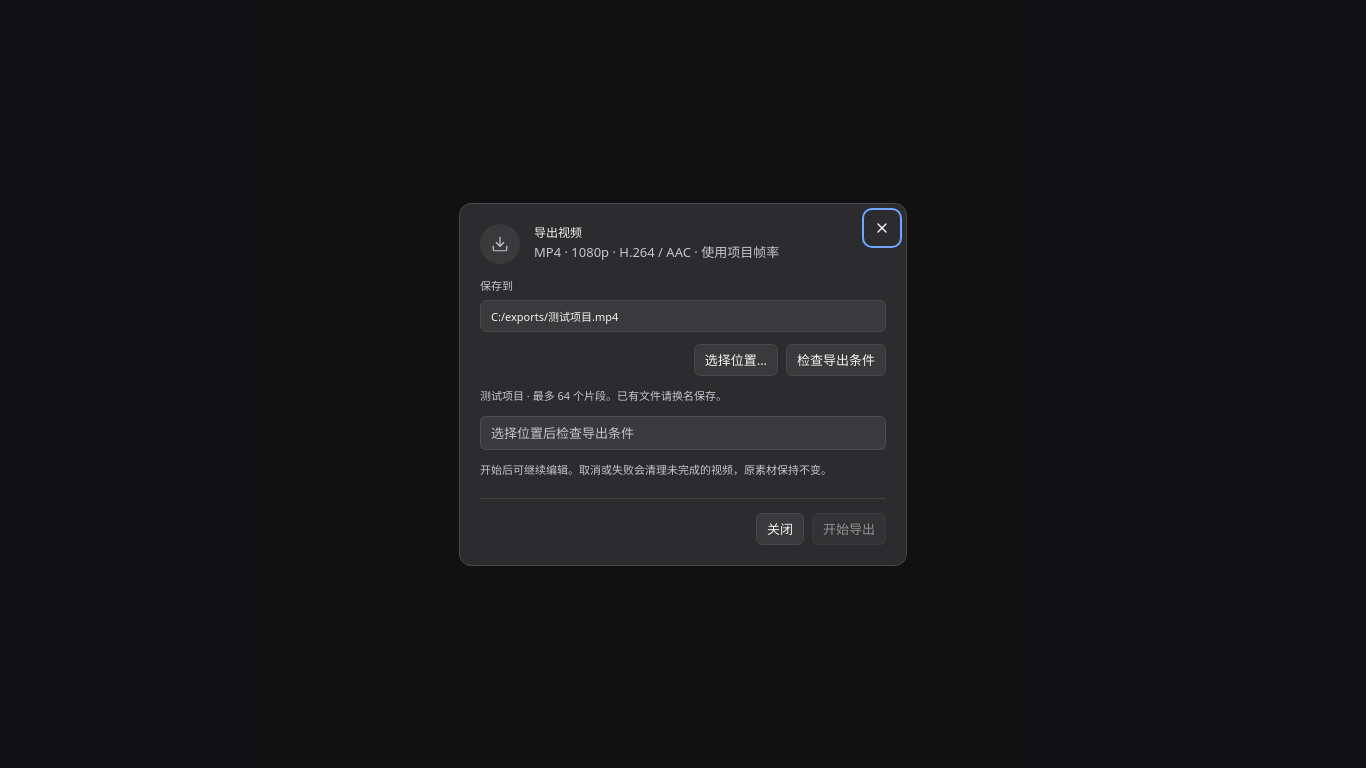
Test: export workflow › shows start failures and retries the same snapshot rather than creating another job
Click the button "检查导出条件".
click(836, 360)  # box [786,344,886,376]
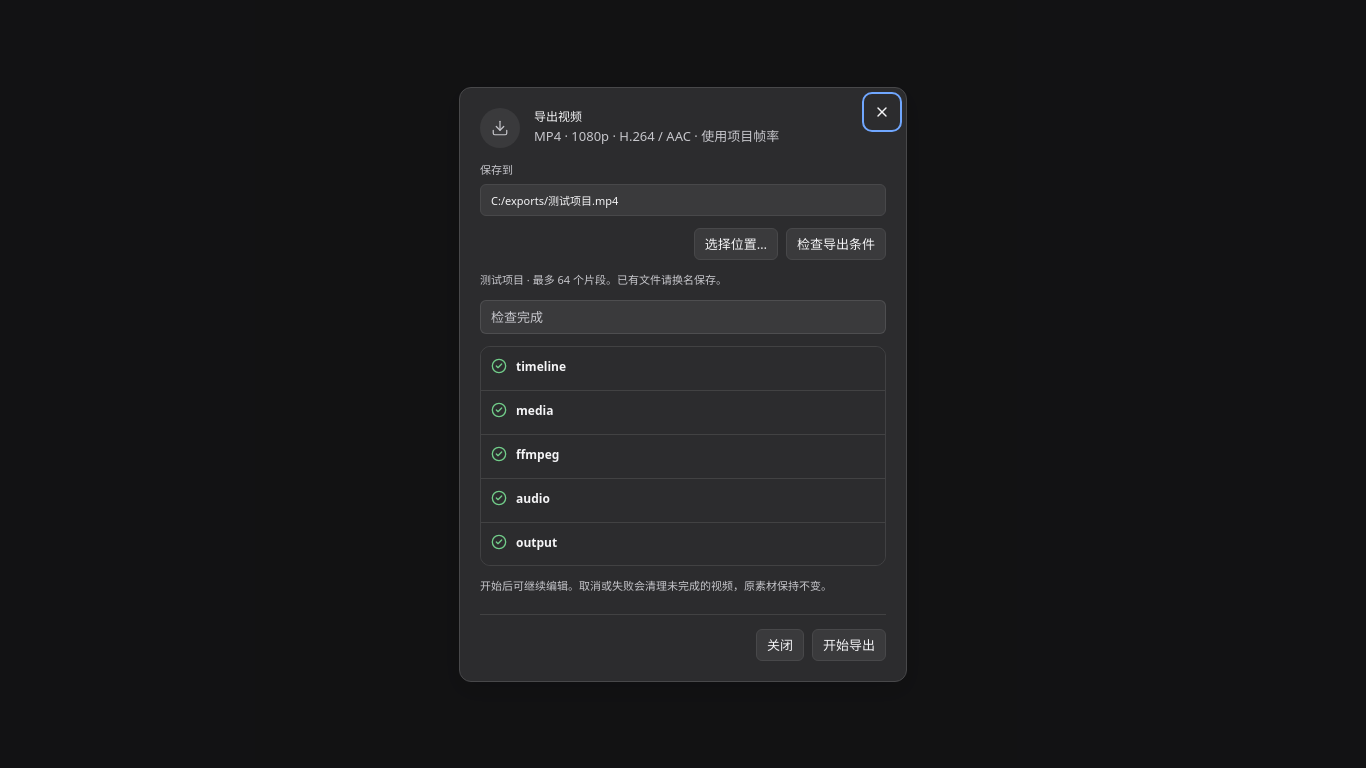
Click the button "开始导出".
click(849, 644)  # box [812,628,886,660]
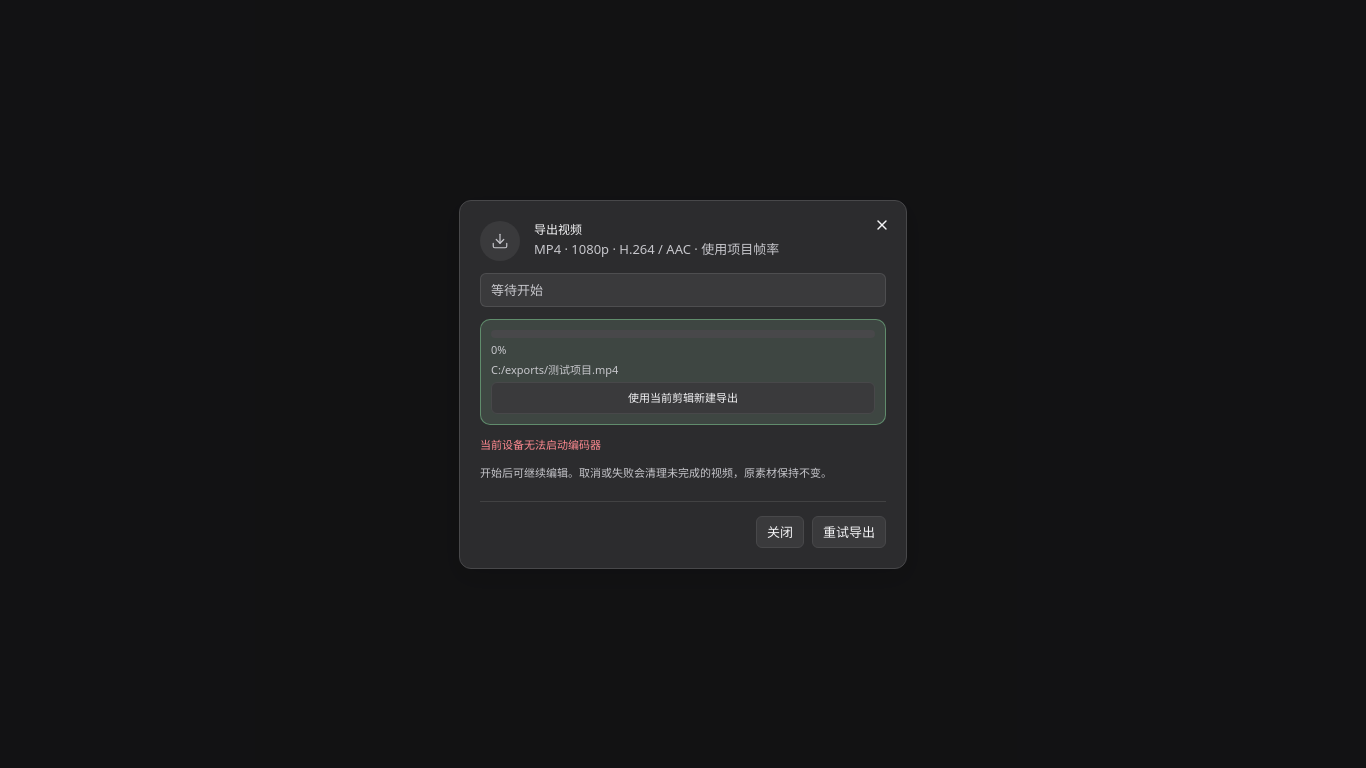
Check: the text "当前设备无法启动编码器" is shown, box [480,436,601,452]
Click the button "重试导出".
click(849, 532)  # box [812,516,886,548]
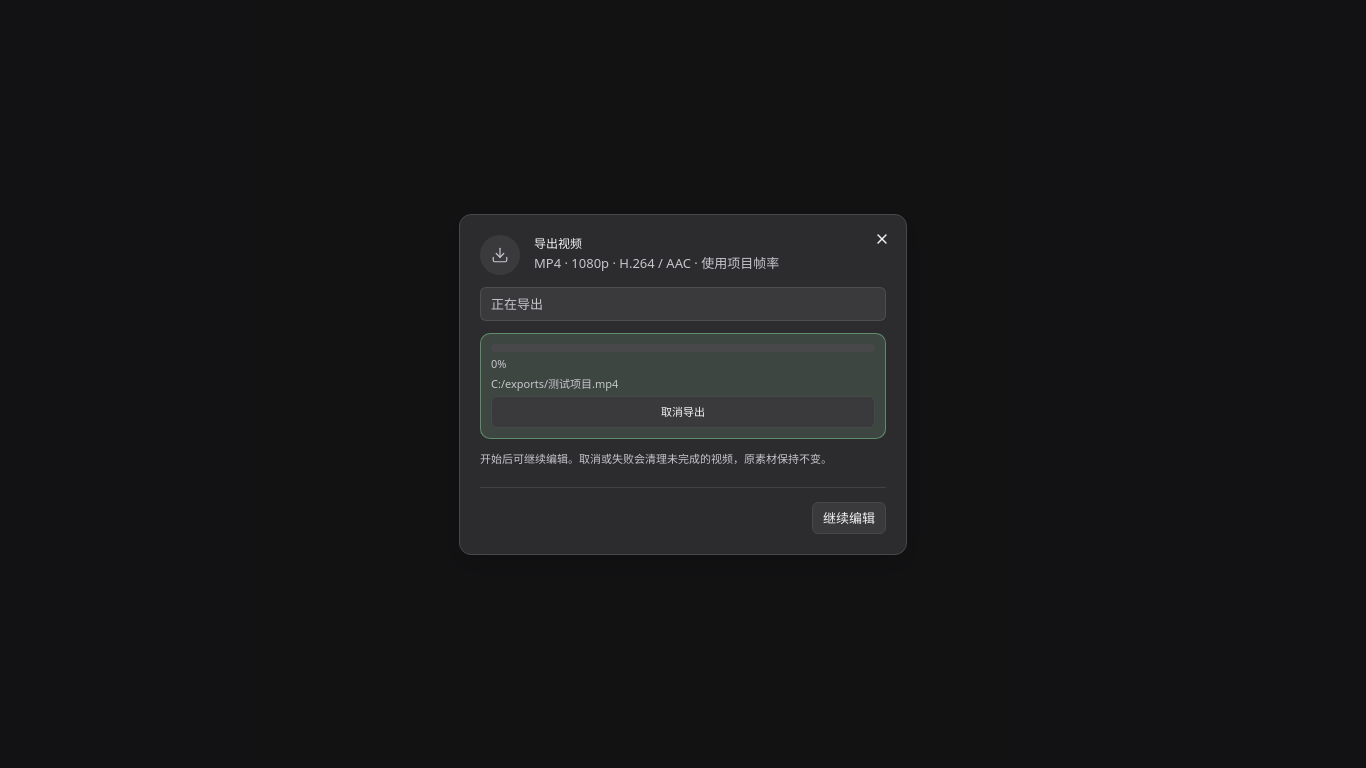
Check: the text "正在导出" is shown, box [480,286,886,320]
